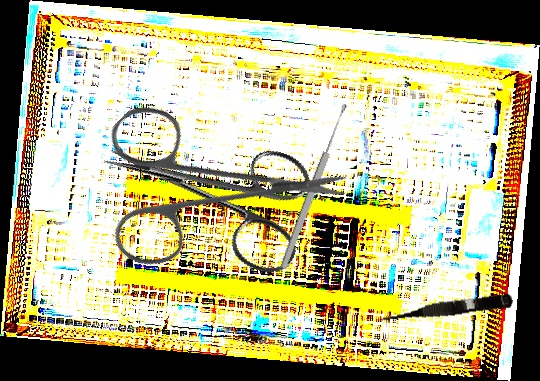Iris Scissors: (53, 35, 354, 336), (86, 101, 324, 280)
Micro Scissor: (373, 290, 514, 327)
Surgical Spoon: (278, 102, 351, 270)
